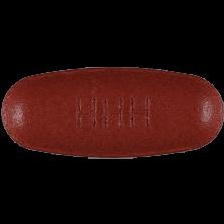55289-838: (0, 0, 224, 224)
